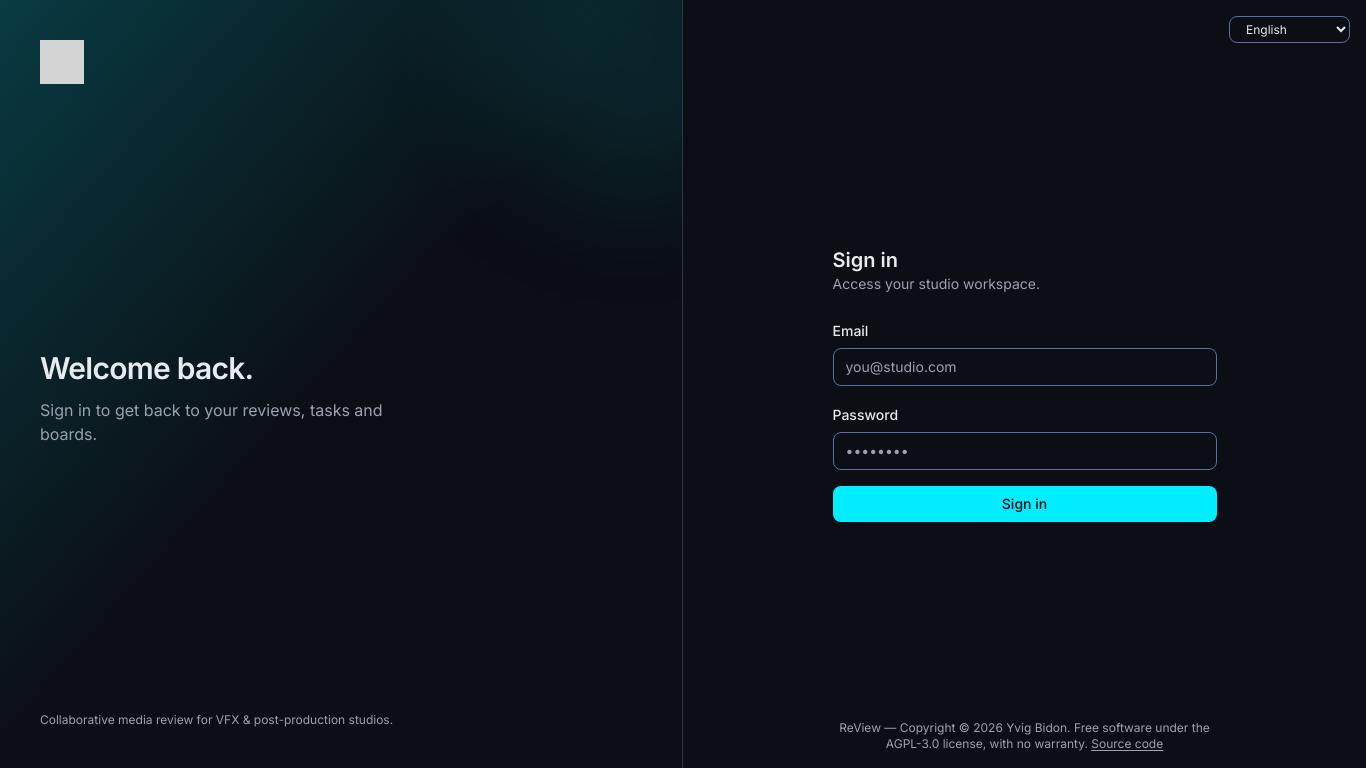
it: LoginPage › asks for the one-time code when the account has two-factor authentication
Step 1. Type "ada@review.local" into the field labelled "Email" → (1024, 367), box [832, 348, 1216, 386]
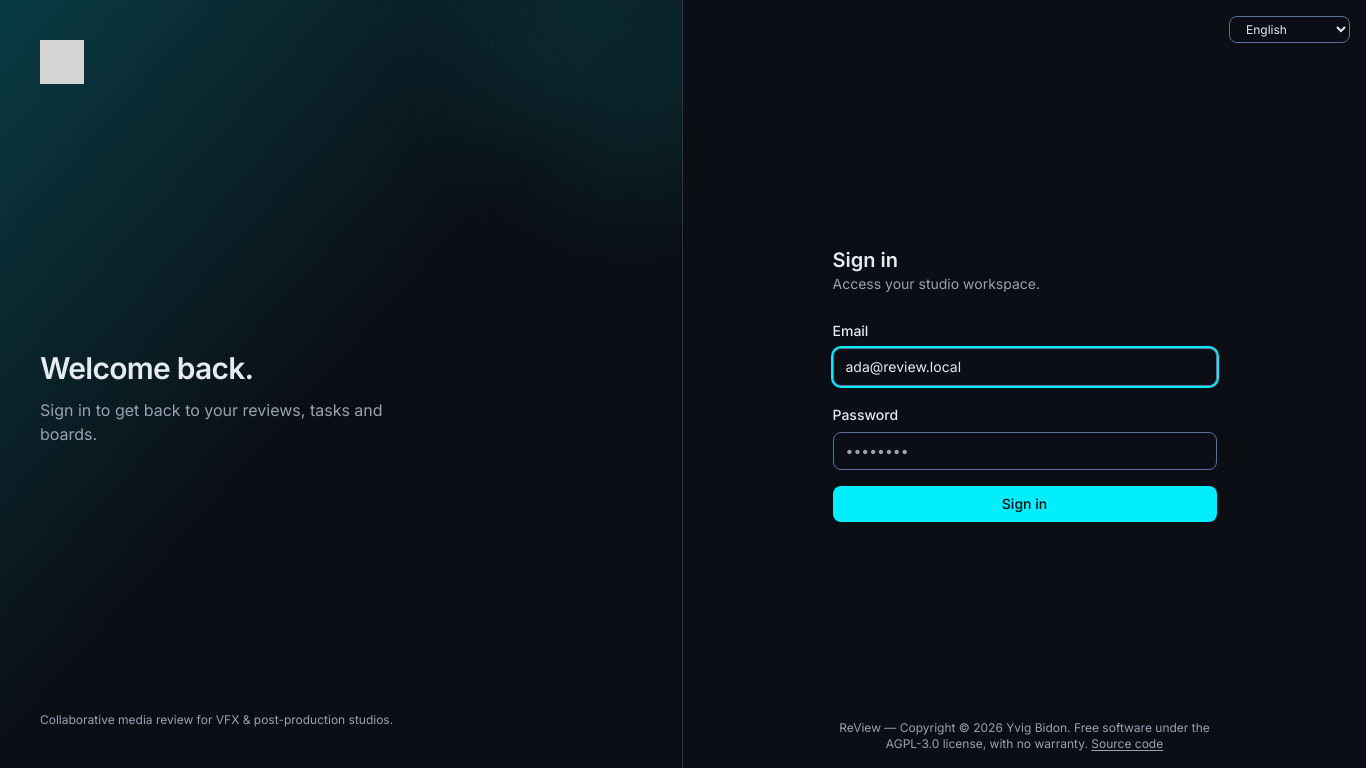
Step 2. Type "hunter2hunter2" into the password field labelled "Password" → (1024, 451), box [832, 432, 1216, 470]
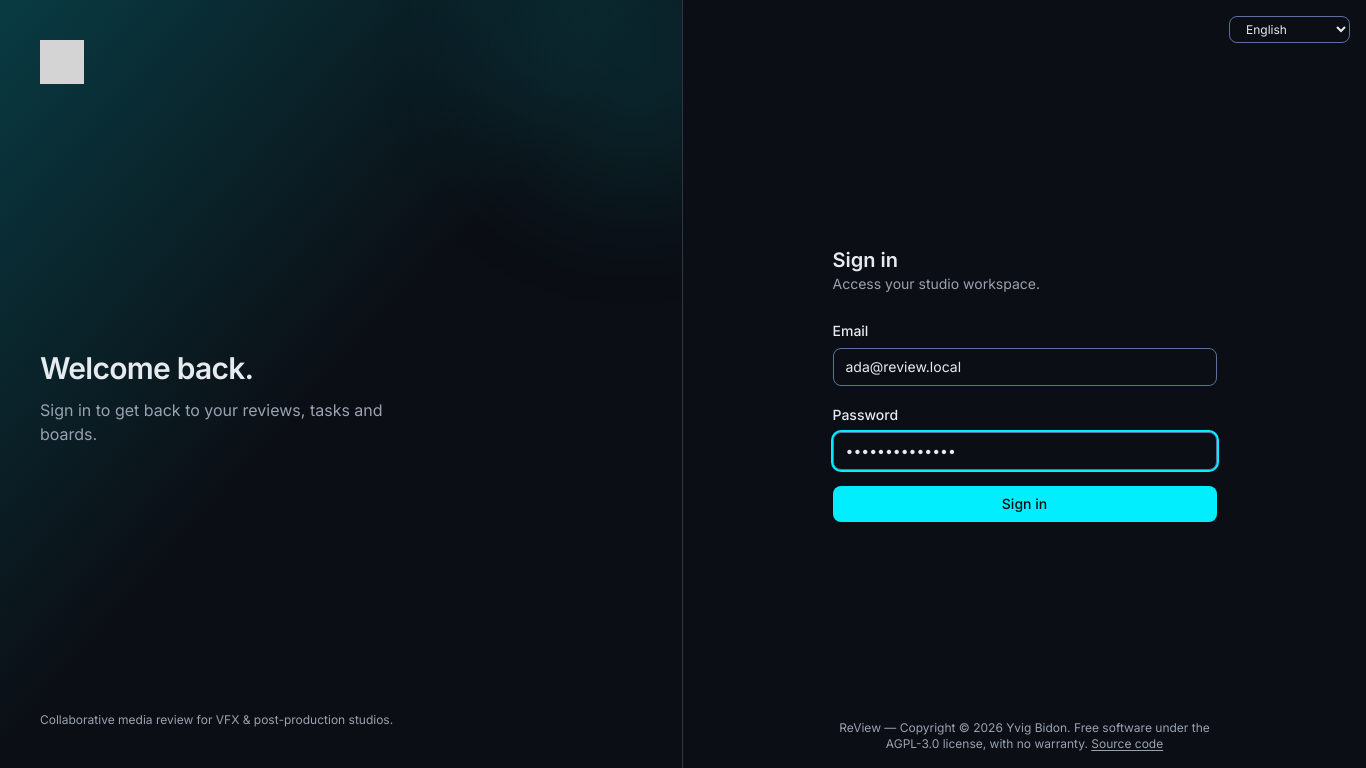
Step 3. Click the button "Sign in" → (1024, 504), box [832, 486, 1216, 522]
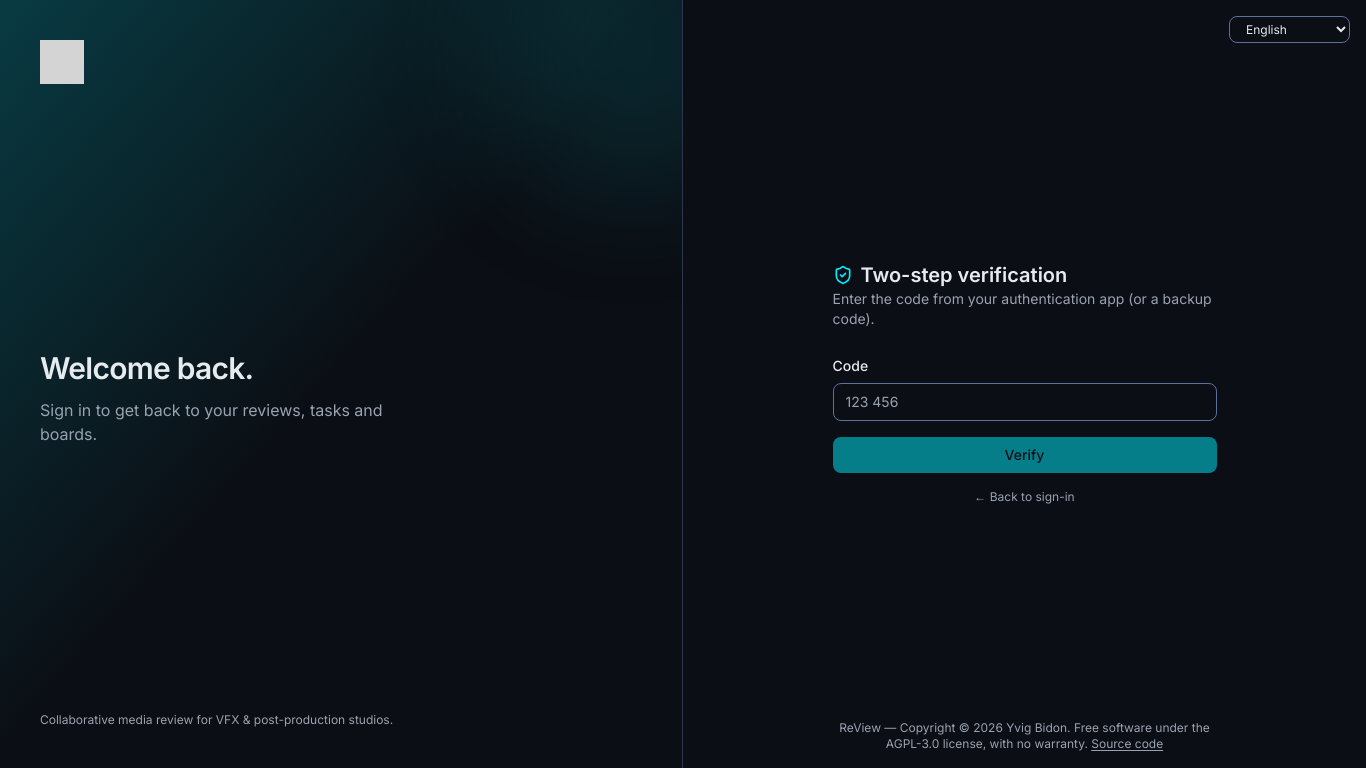
Now the heading "Two-step verification" is shown, box [832, 263, 1067, 287]
Now the label labelled "Password" is gone
